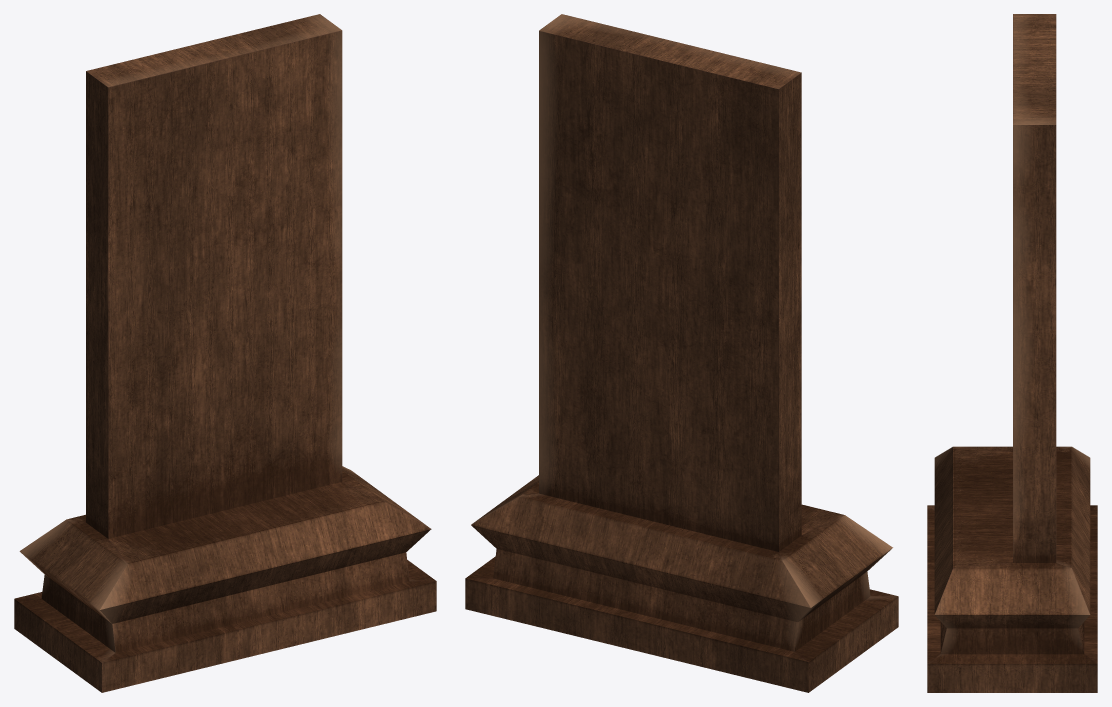
The model's file is Ancestral_Tablet.fbx.
The picture shows the model from 3 angles, left to right: view 1: azimuth 30°, elevation 25°; view 2: azimuth 150°, elevation 25°; view 3: azimuth 270°, elevation 25°; orthographic projection. The views are drawn at different scales.
Parts seen in each view (by area): view 1: Ancestral_Tablet; view 2: Ancestral_Tablet; view 3: Ancestral_Tablet.
Boxes of the visible parts, box(x1,y1,x2,y2) form: Ancestral_Tablet: box(14, 14, 436, 692); Ancestral_Tablet: box(465, 14, 898, 692); Ancestral_Tablet: box(927, 14, 1097, 692).
Size of the model in its own units: 34.4 by 55.07 by 15.63.
1 material, 1 textured.
